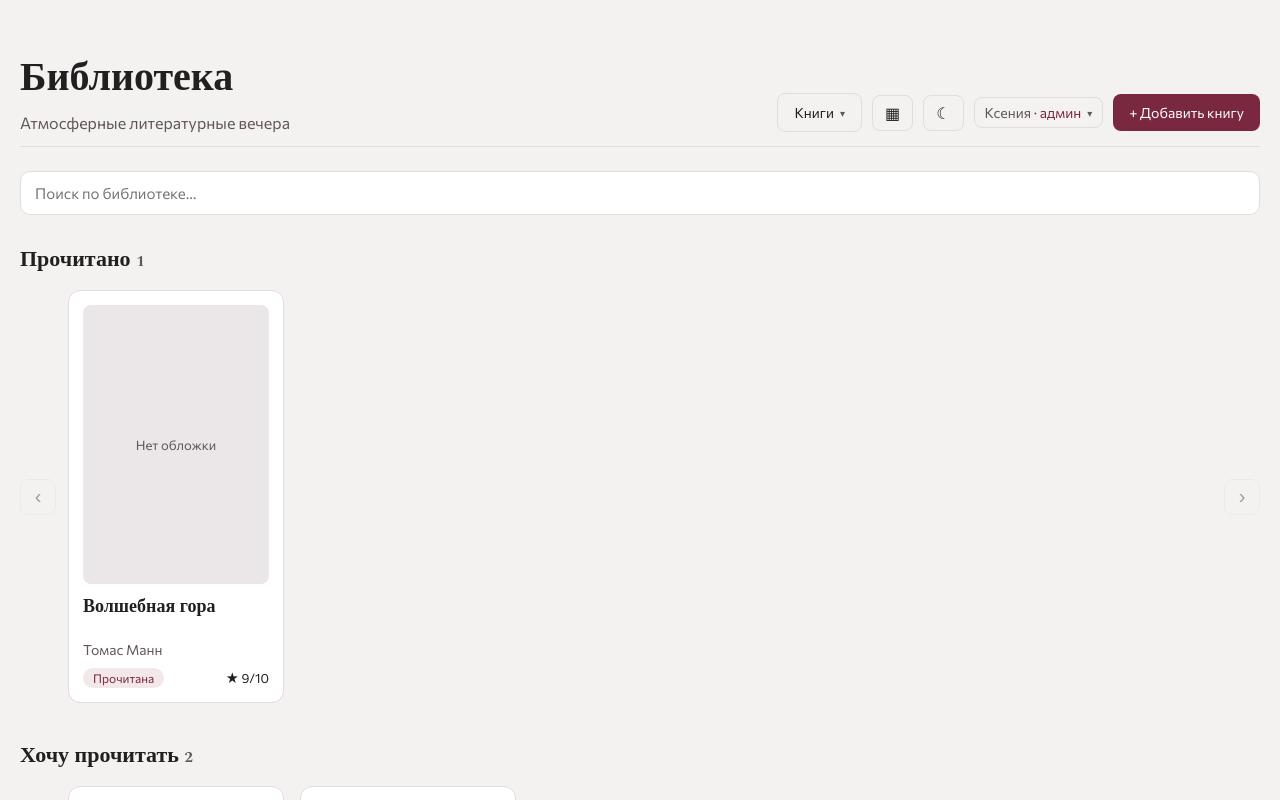
Test: админ видит имя в шапке, выход — в его меню
expect the heading "Волшебная гора" is shown: met, box [83,593,215,620]
expect the text "Ксения · админ" is shown: met, box [984,104,1081,121]
Click the button "Ксения · админ ▾" at (1038, 112), box [974,97,1103,128]
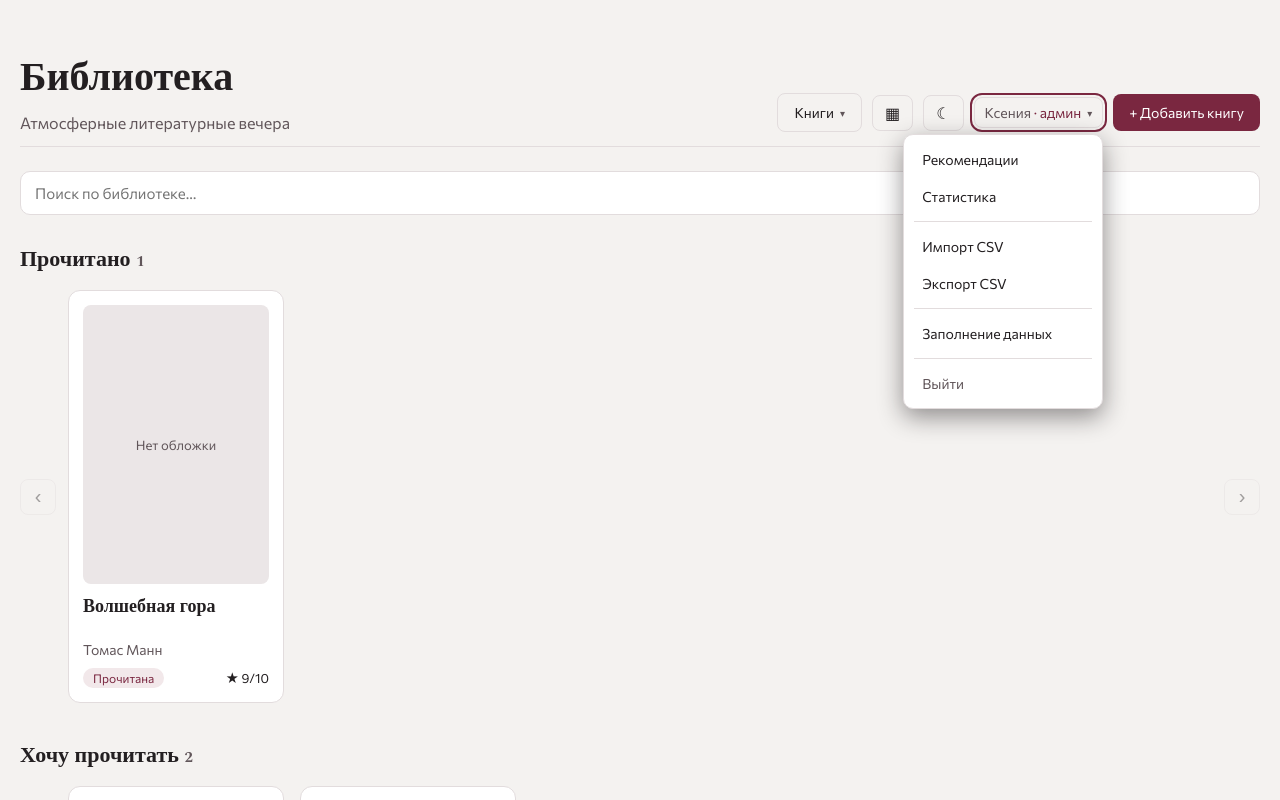
expect the menu item "Выйти" is shown: met, box [910,365,1096,402]
